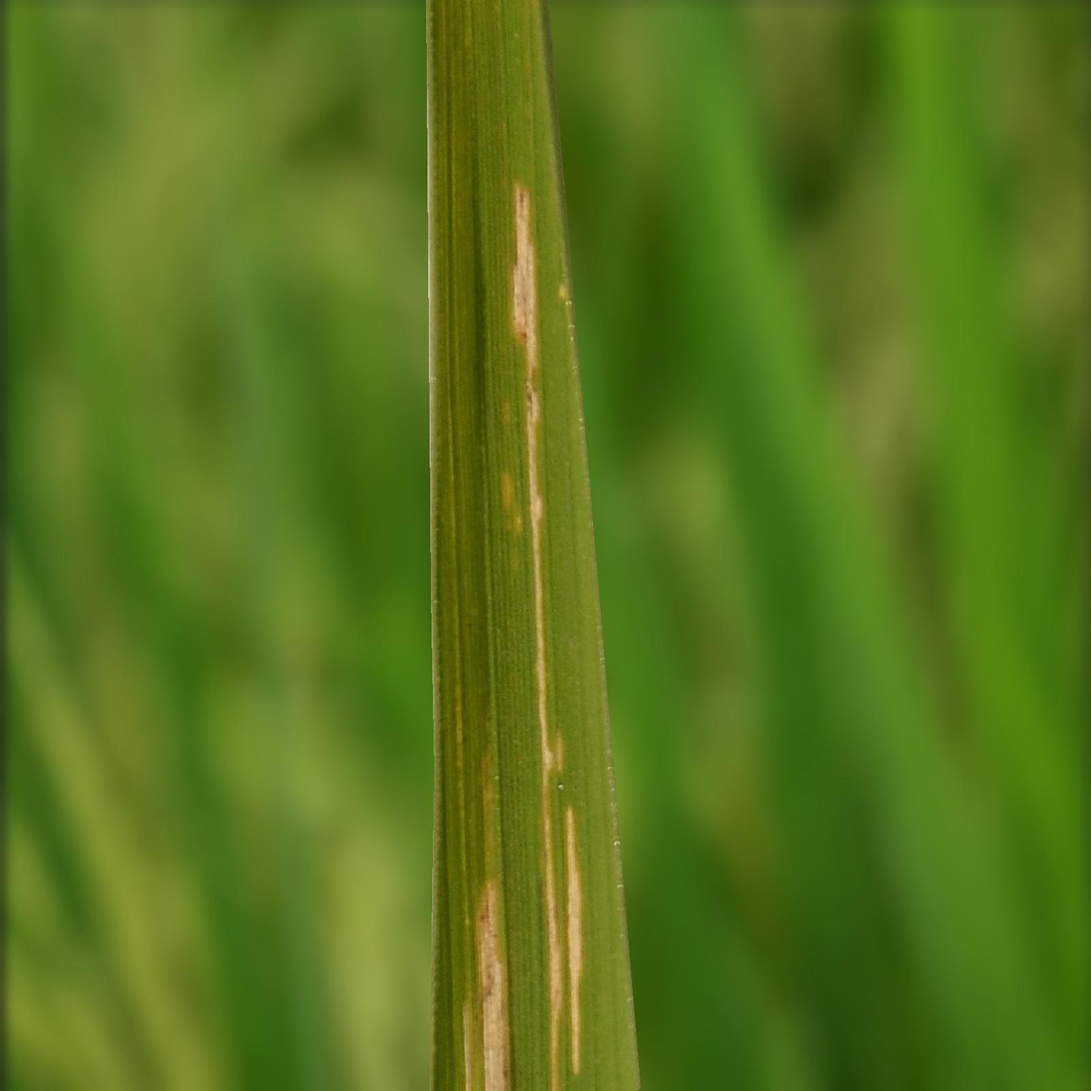BLS: (512, 181, 564, 795), (477, 881, 508, 1090), (544, 795, 561, 1090), (565, 807, 583, 1073), (462, 1002, 473, 1090)
LEAF: (426, 0, 640, 1090)
